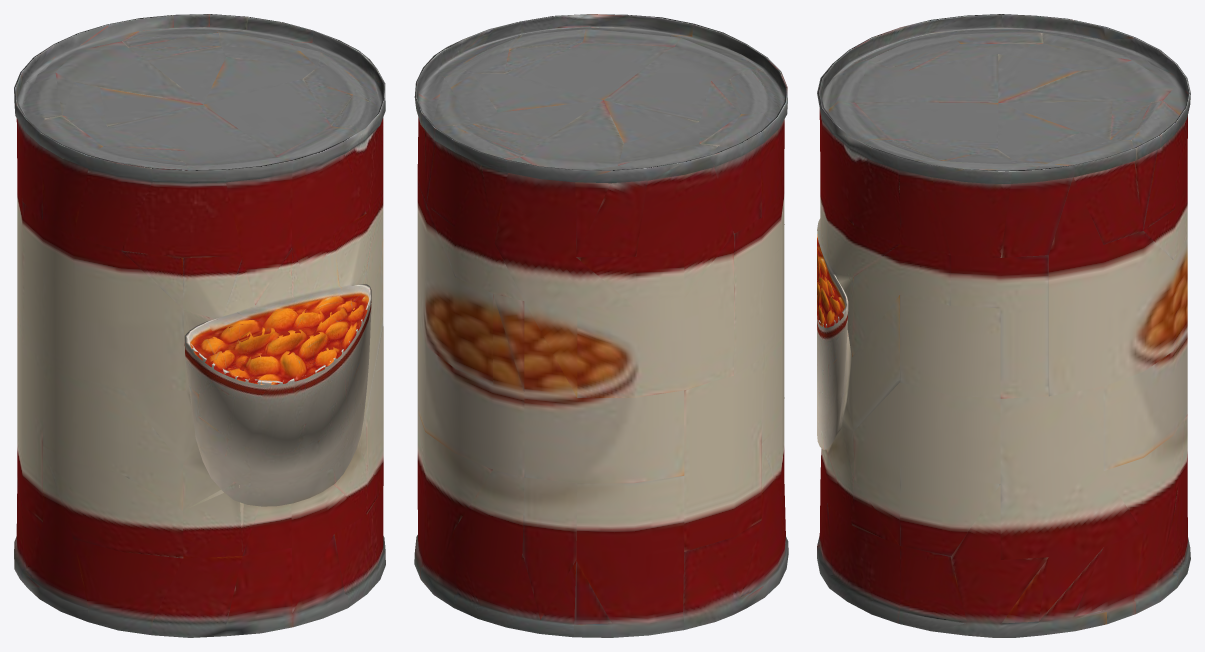
Rendered from item-beans-t25.glb.
3 renders of one model, left to right at view 1: azimuth 30°, elevation 25°; view 2: azimuth 150°, elevation 25°; view 3: azimuth 270°, elevation 25°, orthographic.
Parts seen in each view (by area): view 1: item-beans-t25; view 2: item-beans-t25; view 3: item-beans-t25.
Part boxes in pixels (x1,y1,x2,y2): item-beans-t25: (14, 14, 385, 637); item-beans-t25: (414, 14, 788, 637); item-beans-t25: (817, 14, 1190, 637).
Bounding box in the file's own units: 0.0801 × 0.11 × 0.08.
1 material, 1 textured.
